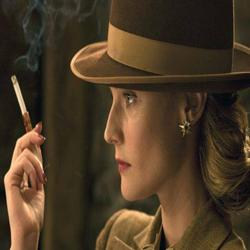smoking: (4, 74, 48, 231)
